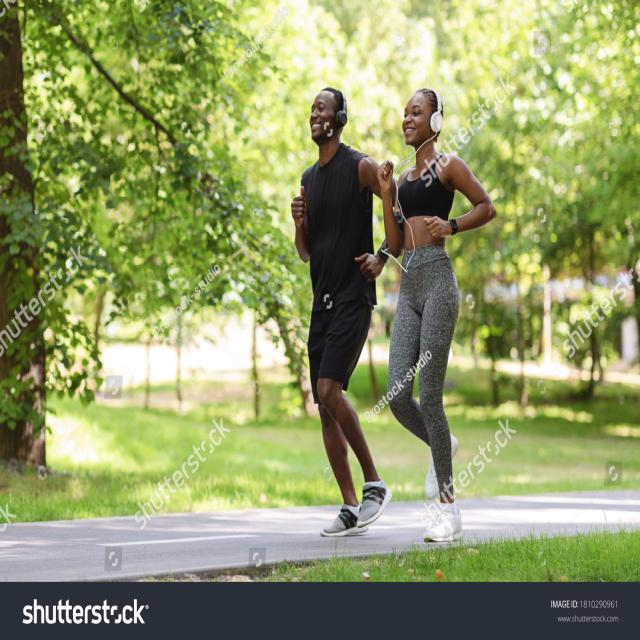Person: (378, 88, 498, 541), (291, 87, 390, 531)
